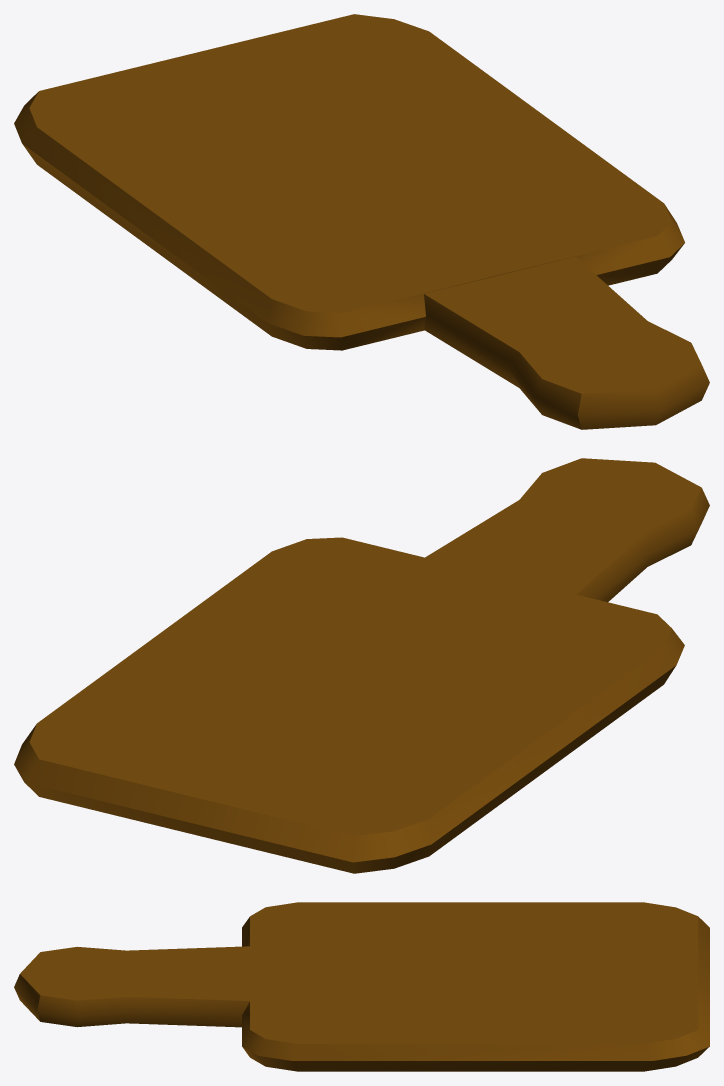
File: cutbord.FBX
3 renders of one model, top to bottom at view 1: azimuth 30°, elevation 25°; view 2: azimuth 150°, elevation 25°; view 3: azimuth 270°, elevation 25°, orthographic. The views are drawn at different scales.
Parts seen in each view (by area): view 1: Box001; view 2: Box001; view 3: Box001.
Part boxes in pixels (bbox=[...]): Box001: bbox=[14, 14, 709, 429]; Box001: bbox=[14, 458, 709, 873]; Box001: bbox=[14, 902, 709, 1071].
Size of the model in its own units: 31.8 by 2.78 by 63.31.
1 material, 1 textured.
